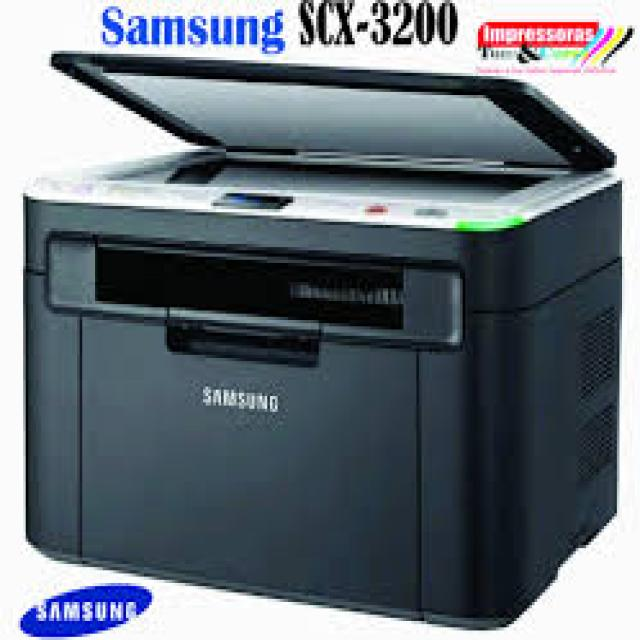printer: (24, 48, 633, 626)
